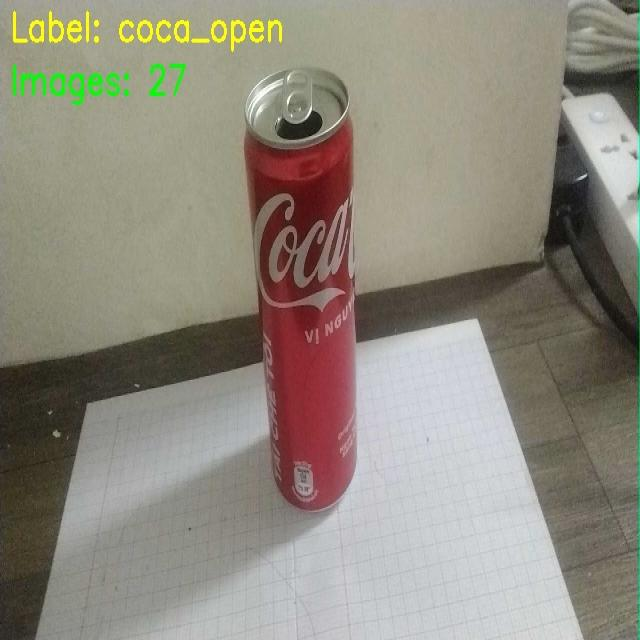Coca_open: (240, 58, 378, 514)
